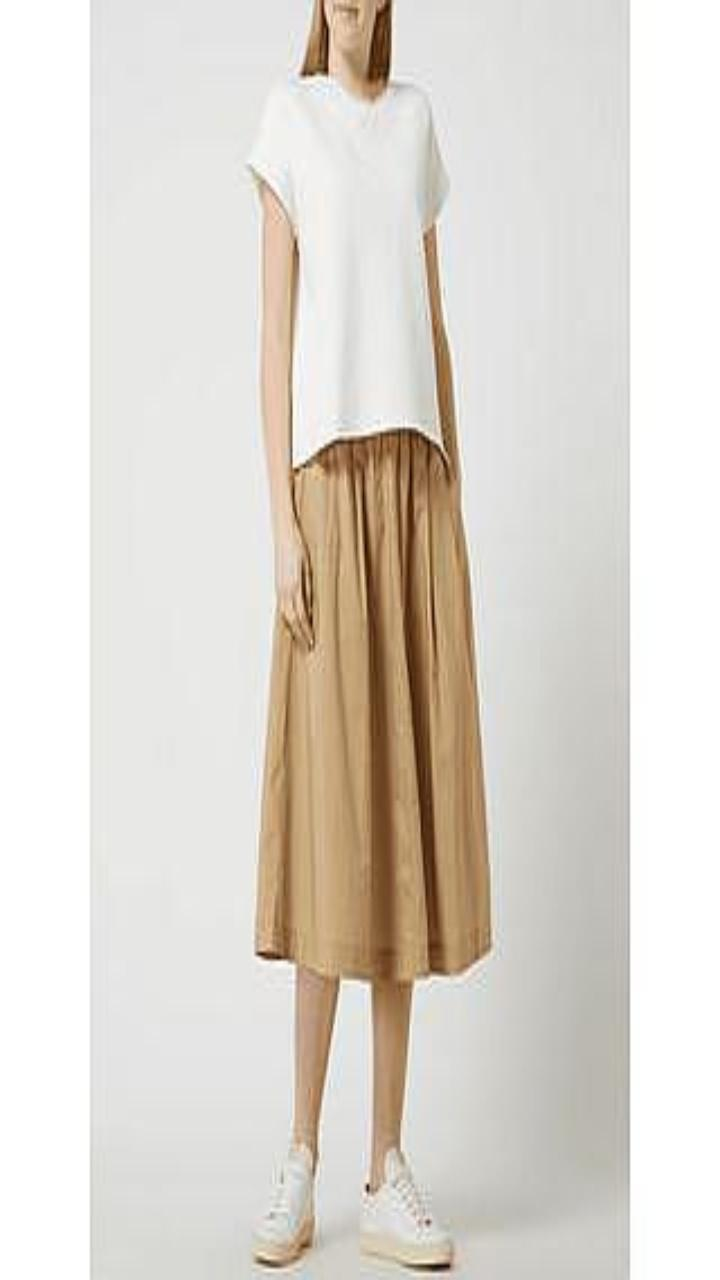Dresses: (251, 76, 490, 979)
T-Shirt: (246, 73, 448, 466)
